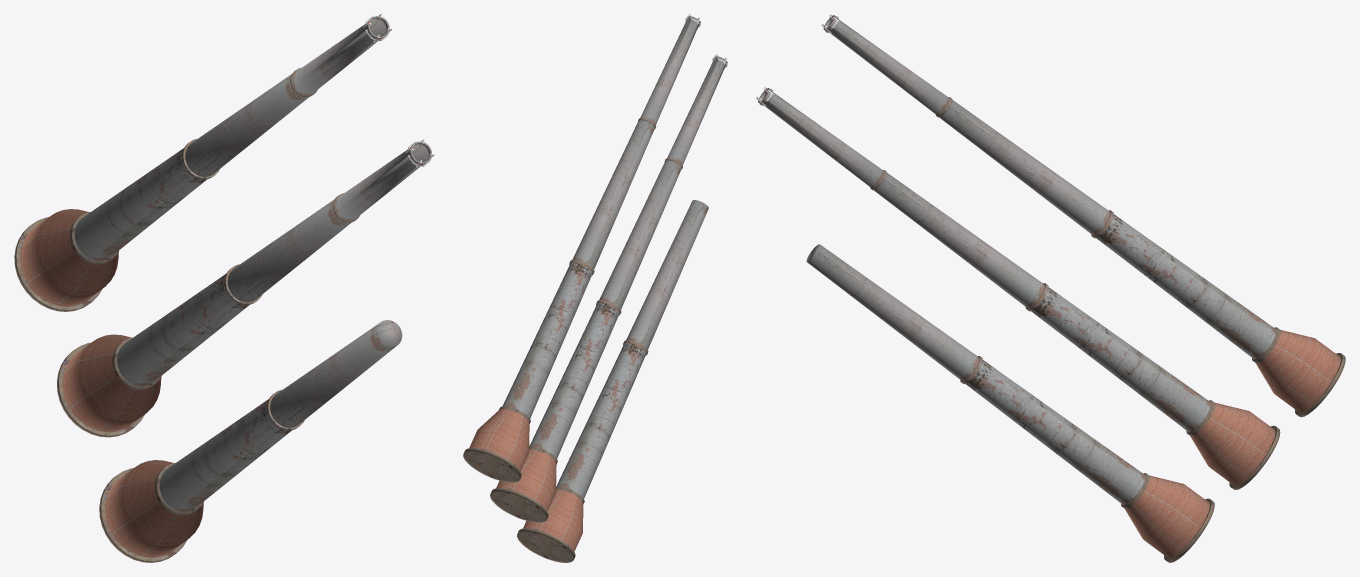
File: smokestacks.glb
The picture shows the model from 3 angles, left to right: view 1: azimuth 30°, elevation 25°; view 2: azimuth 150°, elevation 25°; view 3: azimuth 270°, elevation 25°; orthographic projection. The views are drawn at different scales.
Visible parts, largest first — view 1: SmokeTowerGround_Cylinder, SmokeTowerGround.002_Cylinder.006, SmokeTowerGround.001_Cylinder.003, SmokeTowerMiddle_Cylinder.001, SmokeTowerMiddle.001_Cylinder.004, SmokeTowerMiddle.002_Cylinder.007, SmokeTowerTop.001_Cylinder.005, SmokeTowerTop.002_Cylinder.008; view 2: SmokeTowerGround.002_Cylinder.006, SmokeTowerGround.001_Cylinder.003, SmokeTowerGround_Cylinder, SmokeTowerMiddle_Cylinder.001, SmokeTowerMiddle.002_Cylinder.007, SmokeTowerMiddle.001_Cylinder.004, SmokeTowerTop.001_Cylinder.005, SmokeTowerTop.002_Cylinder.008; view 3: SmokeTowerGround_Cylinder, SmokeTowerGround.002_Cylinder.006, SmokeTowerGround.001_Cylinder.003, SmokeTowerMiddle_Cylinder.001, SmokeTowerMiddle.001_Cylinder.004, SmokeTowerMiddle.002_Cylinder.007, SmokeTowerTop.002_Cylinder.008, SmokeTowerTop.001_Cylinder.005.
Part boxes in pixels (left/top/right/bottom): SmokeTowerGround_Cylinder: left=99, top=399, right=291, bottom=562; SmokeTowerGround.002_Cylinder.006: left=14, top=148, right=206, bottom=311; SmokeTowerGround.001_Cylinder.003: left=57, top=273, right=249, bottom=437; SmokeTowerMiddle_Cylinder.001: left=266, top=320, right=402, bottom=430; SmokeTowerMiddle.001_Cylinder.004: left=224, top=200, right=351, bottom=305; SmokeTowerMiddle.002_Cylinder.007: left=181, top=74, right=308, bottom=179; SmokeTowerTop.001_Cylinder.005: left=332, top=139, right=434, bottom=222; SmokeTowerTop.002_Cylinder.008: left=290, top=14, right=391, bottom=97; SmokeTowerGround.002_Cylinder.006: left=463, top=262, right=592, bottom=482; SmokeTowerGround.001_Cylinder.003: left=490, top=302, right=619, bottom=522; SmokeTowerGround_Cylinder: left=517, top=343, right=646, bottom=562; SmokeTowerMiddle_Cylinder.001: left=623, top=200, right=708, bottom=355; SmokeTowerMiddle.002_Cylinder.007: left=569, top=120, right=654, bottom=275; SmokeTowerMiddle.001_Cylinder.004: left=596, top=160, right=681, bottom=315; SmokeTowerTop.001_Cylinder.005: left=664, top=54, right=727, bottom=169; SmokeTowerTop.002_Cylinder.008: left=637, top=14, right=700, bottom=129; SmokeTowerGround_Cylinder: left=966, top=360, right=1214, bottom=562; SmokeTowerGround.002_Cylinder.006: left=1096, top=214, right=1345, bottom=417; SmokeTowerGround.001_Cylinder.003: left=1031, top=287, right=1280, bottom=489; SmokeTowerMiddle_Cylinder.001: left=806, top=244, right=982, bottom=383; SmokeTowerMiddle.001_Cylinder.004: left=874, top=173, right=1048, bottom=311; SmokeTowerMiddle.002_Cylinder.007: left=939, top=100, right=1113, bottom=238; SmokeTowerTop.002_Cylinder.008: left=822, top=14, right=952, bottom=117; SmokeTowerTop.001_Cylinder.005: left=756, top=87, right=886, bottom=190.
Size of the model in its own units: 2.2 by 17.36 by 17.06.
5 materials, 3 textured.
